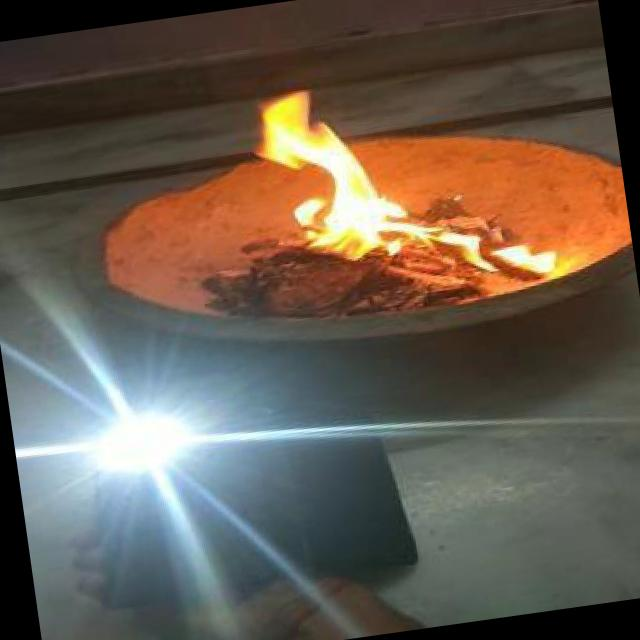Fire: (242, 54, 563, 324)
